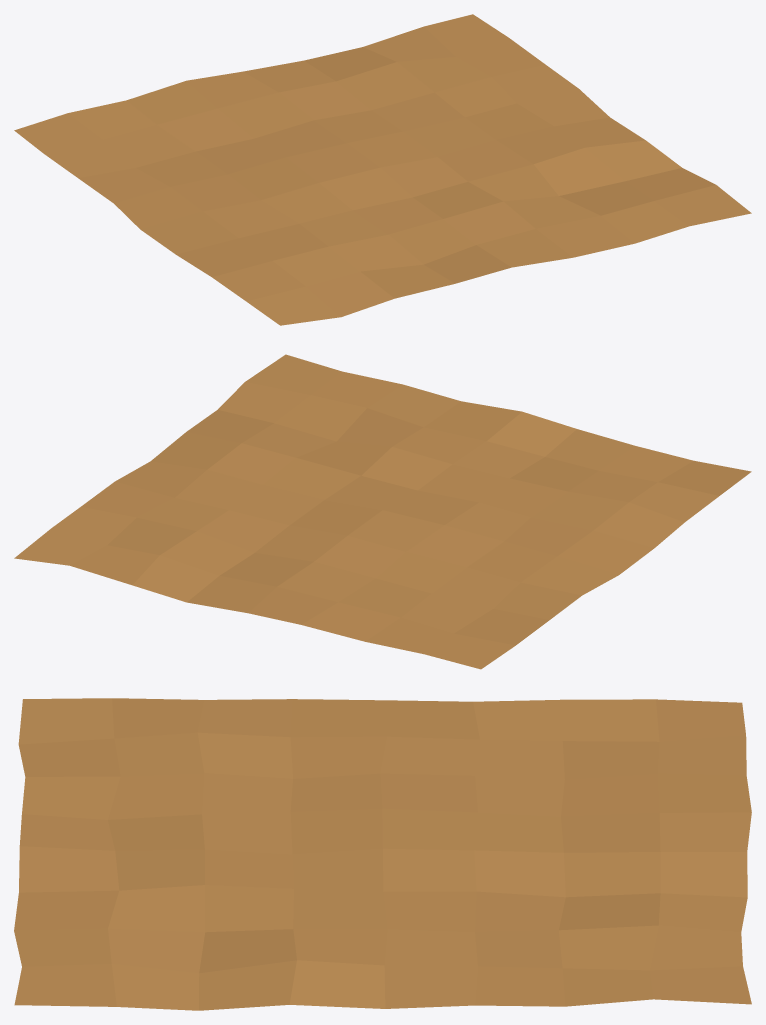
File: lakeBottom_01.fbx
The picture shows the model from 3 angles, top to bottom: view 1: azimuth 30°, elevation 25°; view 2: azimuth 150°, elevation 25°; view 3: azimuth 270°, elevation 25°; orthographic projection. The views are drawn at different scales.
Visible parts, largest first — view 1: Plane; view 2: Plane; view 3: Plane.
Part boxes in pixels (x1,y1,x2,y2): Plane: (14,14,751,325); Plane: (14,354,751,669); Plane: (14,698,751,1010).
Size of the model in its own units: 33456 by 586 by 33597.
